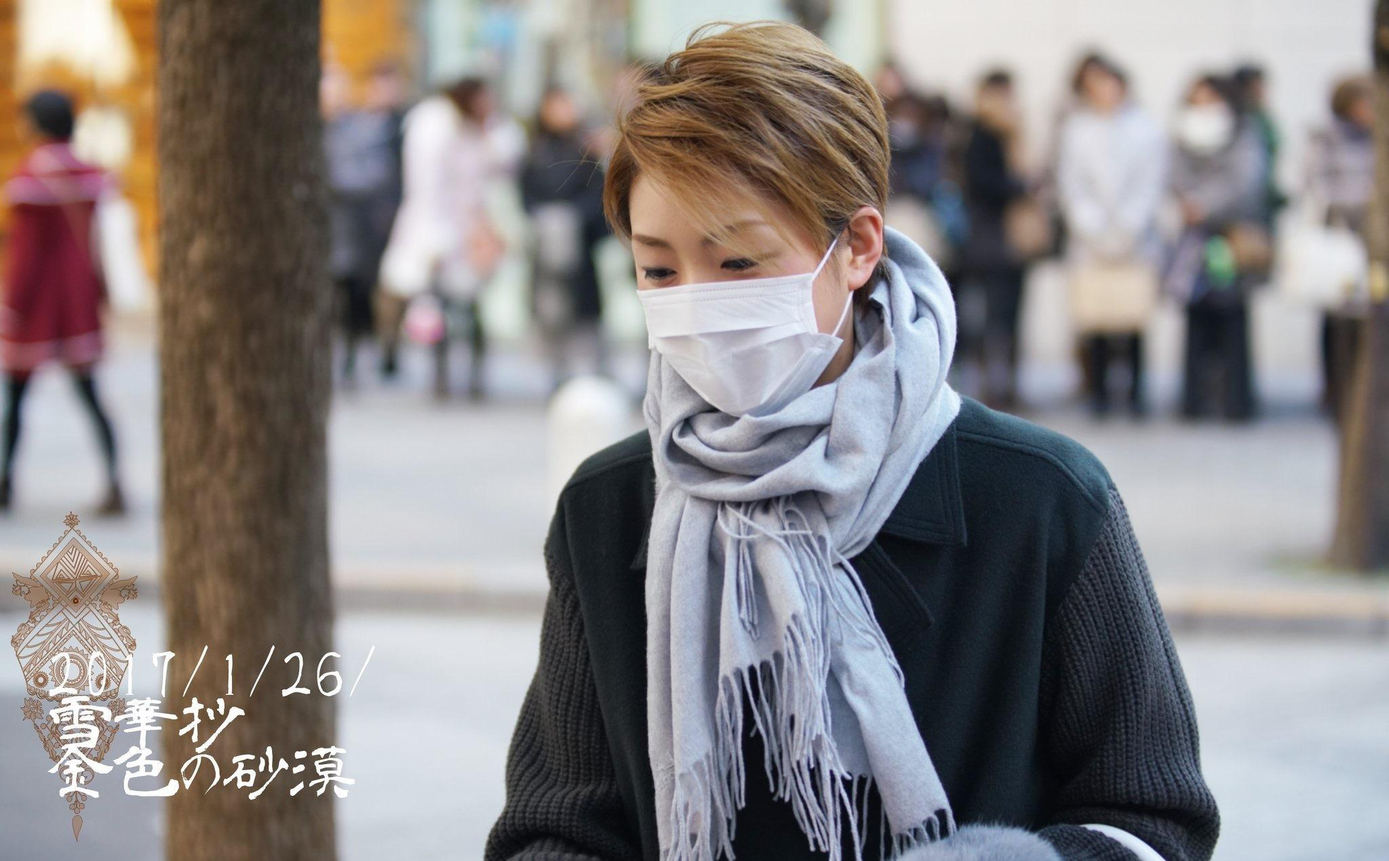OK: (633, 207, 840, 414)
